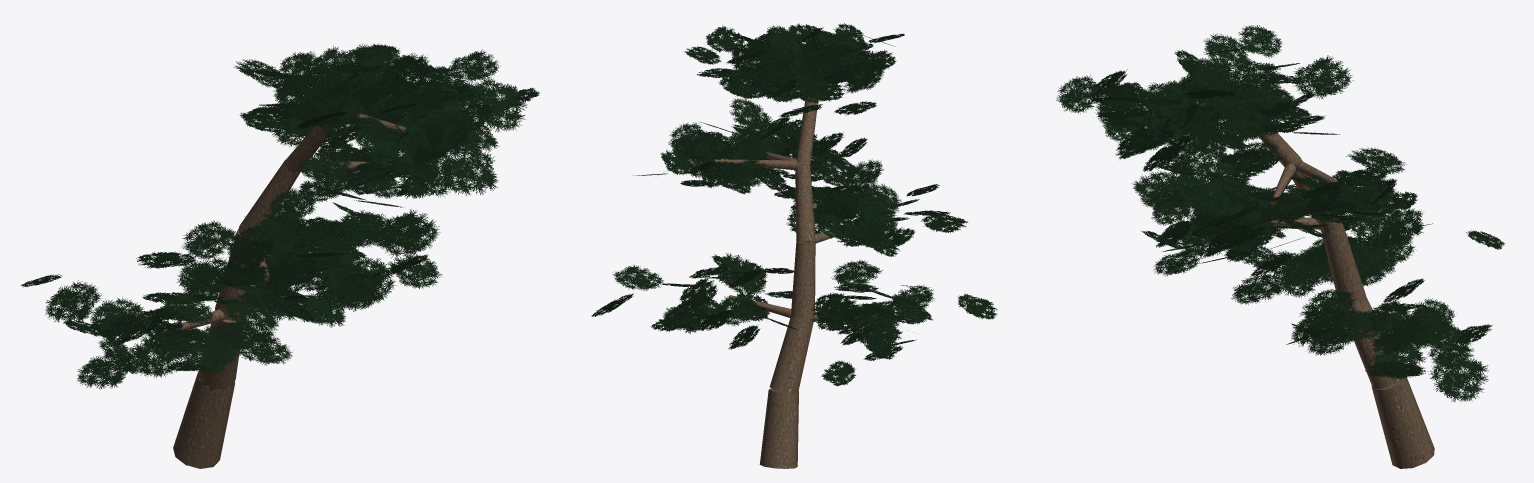
Rendered from Pine_2.fbx.
The picture shows the model from 3 angles, left to right: view 1: azimuth 30°, elevation 25°; view 2: azimuth 150°, elevation 25°; view 3: azimuth 270°, elevation 25°; orthographic projection. The views are drawn at different scales.
Parts seen in each view (by area): view 1: Pine_2; view 2: Pine_2; view 3: Pine_2.
Part boxes in pixels (x1,y1,x2,y2): Pine_2: (20, 43, 539, 468); Pine_2: (591, 23, 997, 468); Pine_2: (1056, 25, 1504, 468).
Size of the model in its own units: 8.43 by 8.45 by 8.39.
